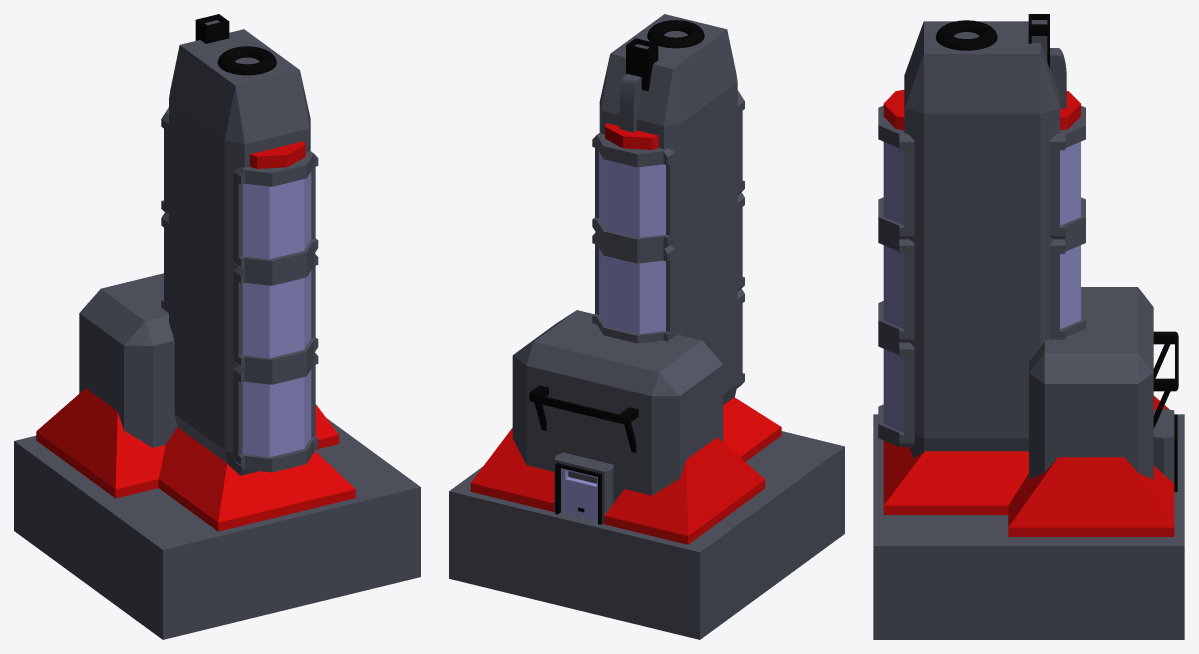
File: samTower.fbx
3 renders of one model, left to right at view 1: azimuth 30°, elevation 25°; view 2: azimuth 150°, elevation 25°; view 3: azimuth 270°, elevation 25°, orthographic. The views are drawn at different scales.
Visible parts, largest first — view 1: block_default_23, block_rounded_28, block_rounded_24, roof_point_rounded_27, roof_window_37, roof_window_39, roof_window_38, roof_point_rounded_25, cylinder_donut_32, cylinder_vertex_36, detail_airSmall_34, roof_point_rounded_26 (+1 smaller); view 2: block_default_23, block_rounded_24, block_rounded_28, roof_point_rounded_25, roof_window_31, roof_window_30, roof_point_rounded_26, wall_garageDoorClosed_33, roof_point_rounded_27, detail_airSmall_34, detail_rollbar_40, cylinder_donut_32 (+4 smaller); view 3: block_rounded_28, block_default_23, block_rounded_24, roof_point_rounded_26, roof_point_rounded_27, roof_window_37, roof_window_31, roof_window_39, roof_window_38, roof_window_30, wall_garageDoorClosed_33, detail_airSmall_34 (+4 smaller).
Part boxes in pixels (x1,y1,x2,y2): block_default_23: (14,418,420,639); block_rounded_28: (169,29,310,475); block_rounded_24: (79,273,177,447); roof_point_rounded_27: (158,427,355,531); roof_window_37: (233,150,318,274); roof_window_39: (233,352,318,472); roof_window_38: (233,253,318,373); roof_point_rounded_25: (36,388,165,498); cylinder_donut_32: (217,46,276,75); cylinder_vertex_36: (249,141,305,168); detail_airSmall_34: (195,14,229,43); roof_point_rounded_26: (315,404,339,449); block_default_23: (449,431,844,639); block_rounded_24: (512,310,723,502); block_rounded_28: (599,14,737,404); roof_point_rounded_25: (604,437,765,544); roof_window_31: (592,132,674,252); roof_window_30: (592,232,674,343); roof_point_rounded_26: (470,428,554,511); wall_garageDoorClosed_33: (554,452,613,524); roof_point_rounded_27: (723,397,781,461); detail_airSmall_34: (619,38,658,132); detail_rollbar_40: (529,385,638,452); cylinder_donut_32: (647,20,704,48); block_rounded_28: (904,21,1059,457); block_default_23: (873,414,1184,639); block_rounded_24: (1029,287,1153,479); roof_point_rounded_26: (1008,457,1174,536); roof_point_rounded_27: (883,440,1028,514); roof_window_37: (878,105,914,239); roof_window_31: (1049,105,1085,239); roof_window_39: (878,332,914,446); roof_window_38: (878,230,914,342); roof_window_30: (1049,229,1085,339); wall_garageDoorClosed_33: (1153,408,1177,491); detail_airSmall_34: (1028,14,1066,108).
Size of the model in its own units: 30 by 58.88 by 30.
